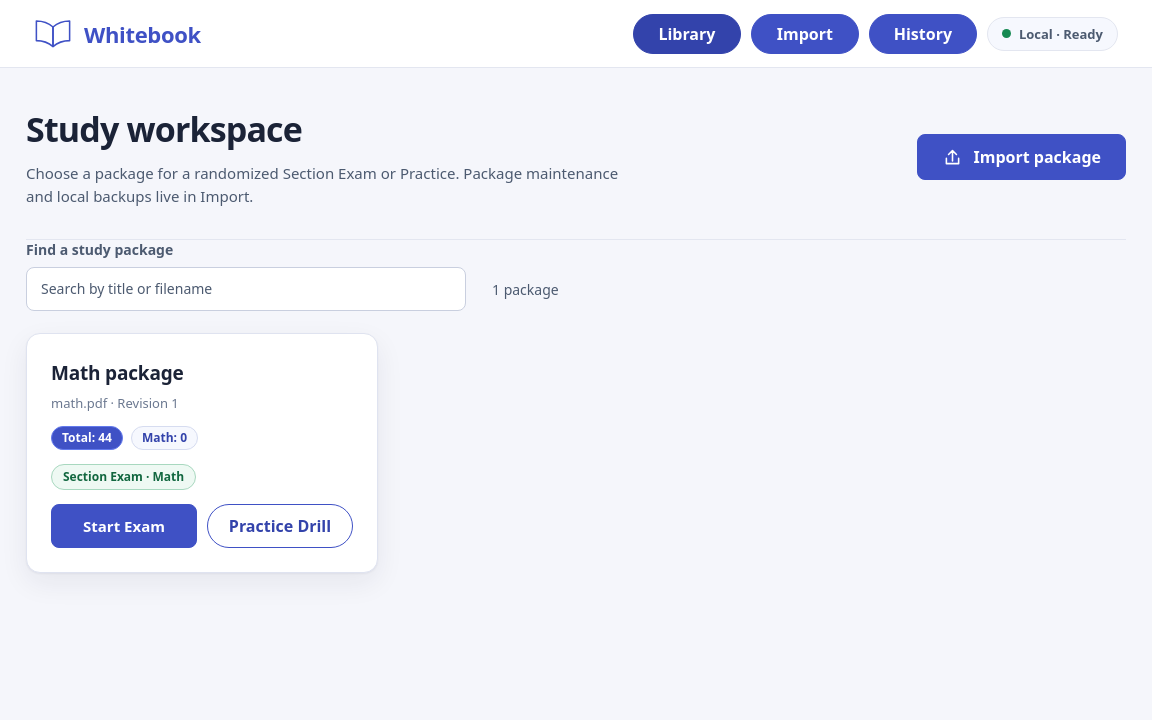
Scenario: prevents duplicate Section Exam creation while Start Exam is pending
The width and height of the screenshot is (1152, 720).
What coordinates should you click on to do the following:
click the button "Start Exam"
I would click on:
 (124, 526)
Its box is [51,504,197,548].
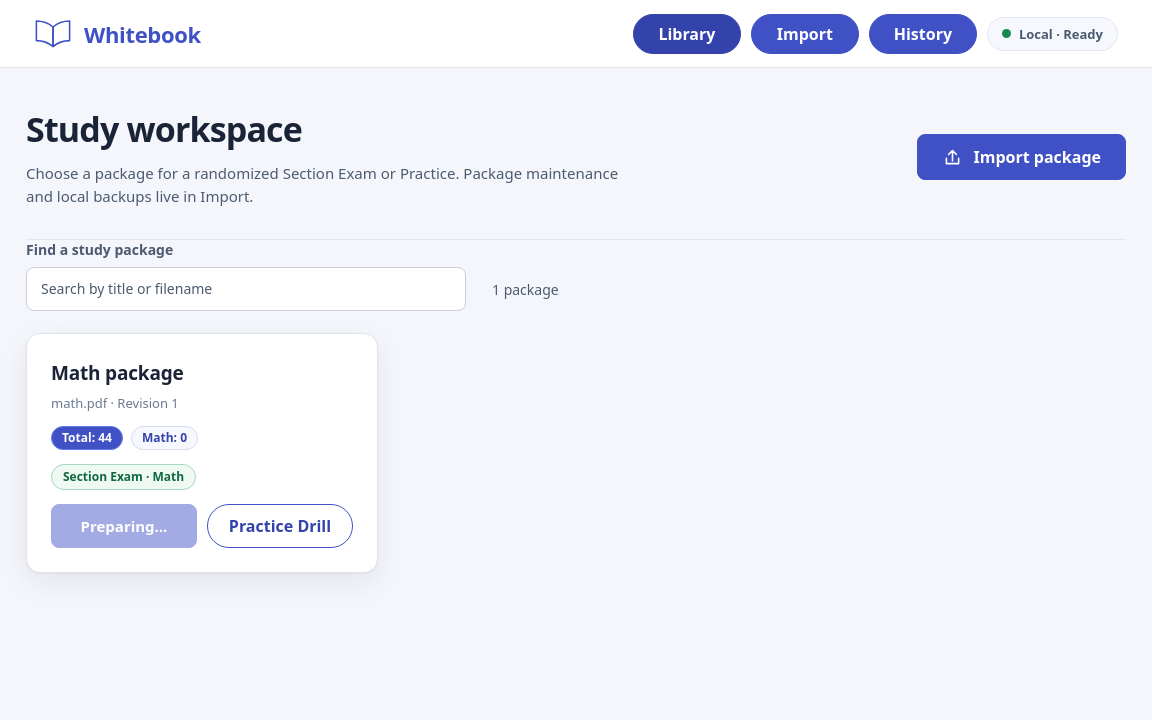
Check: the button "Preparing…" is shown, box [51,504,197,548]
